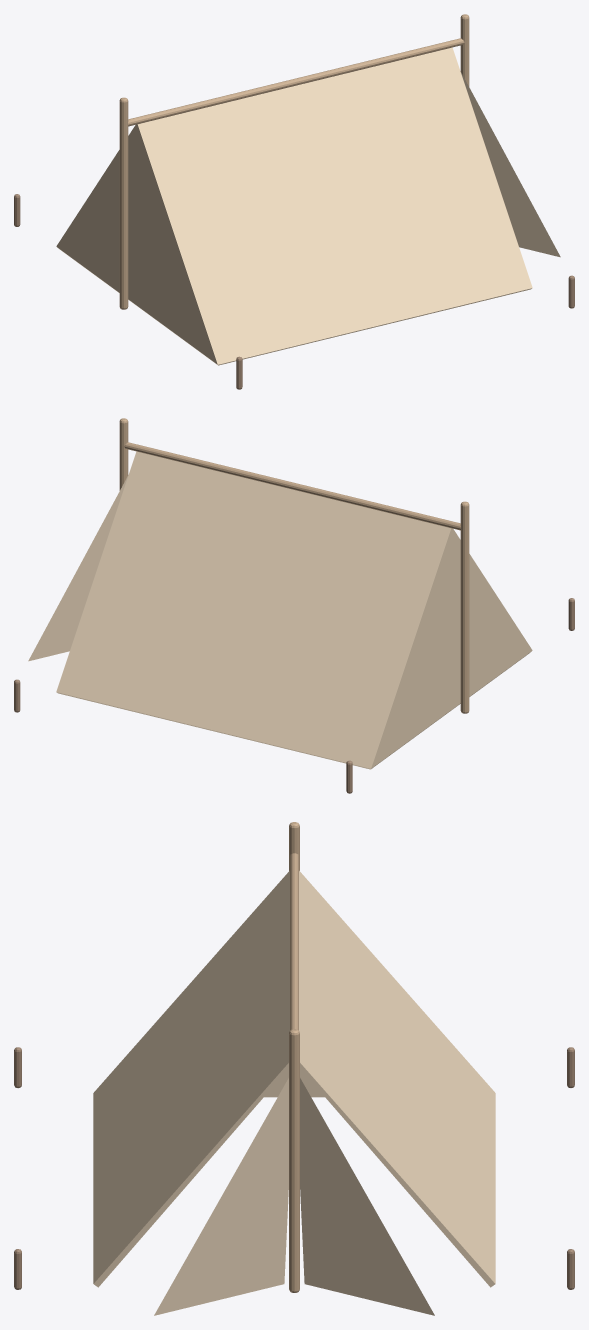
File: lm_camp_tent_b.glb
3 views of the same model, one above another, from view 1: azimuth 30°, elevation 25°; view 2: azimuth 150°, elevation 25°; view 3: azimuth 270°, elevation 25° (orthographic). The views are drawn at different scales.
Parts seen in each view (by area): view 1: lm_camp_tent_b; view 2: lm_camp_tent_b; view 3: lm_camp_tent_b.
Part boxes in pixels (left/top/right/bottom): lm_camp_tent_b: left=14, top=14, right=574, bottom=389; lm_camp_tent_b: left=14, top=418, right=574, bottom=793; lm_camp_tent_b: left=14, top=822, right=574, bottom=1315.
Bounding box in the file's own units: 4.39 × 2.33 × 4.46.
